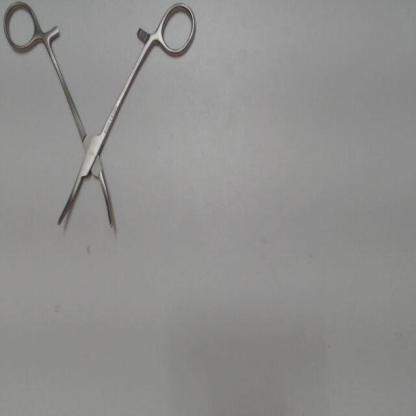Crile Artery Forceps: (0, 0, 206, 250)
